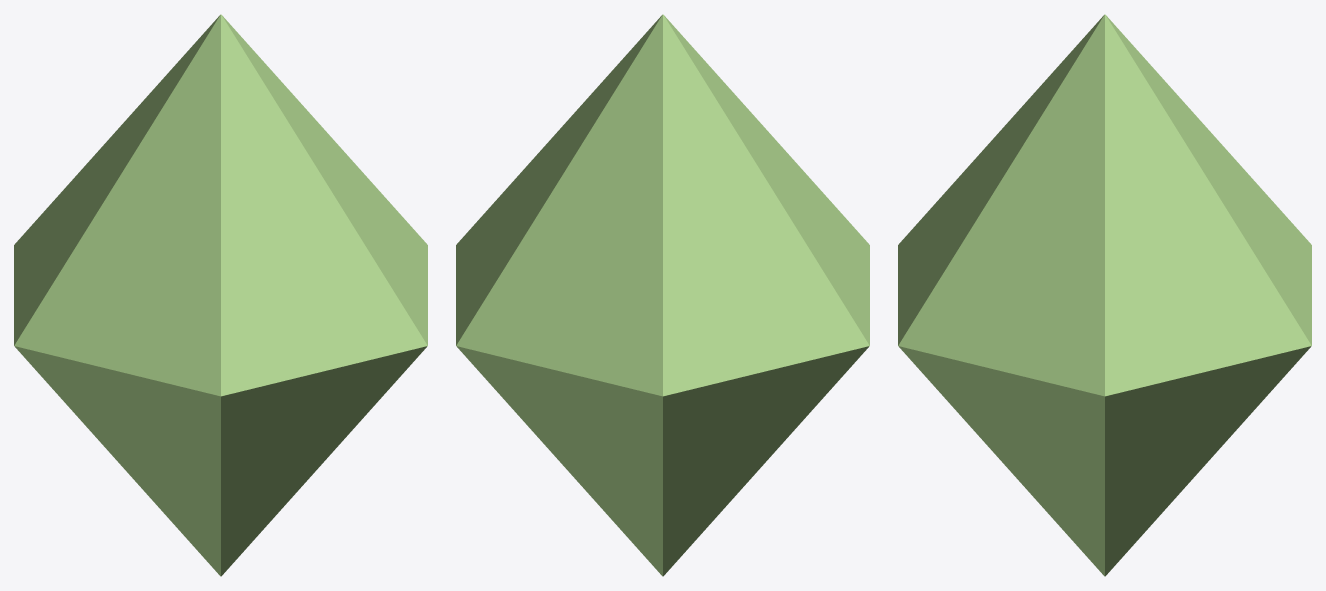
File: Gem.glb
3 renders of one model, left to right at view 1: azimuth 30°, elevation 25°; view 2: azimuth 150°, elevation 25°; view 3: azimuth 270°, elevation 25°, orthographic.
Bounding box in the file's own units: 2 × 2.6 × 1.73.
